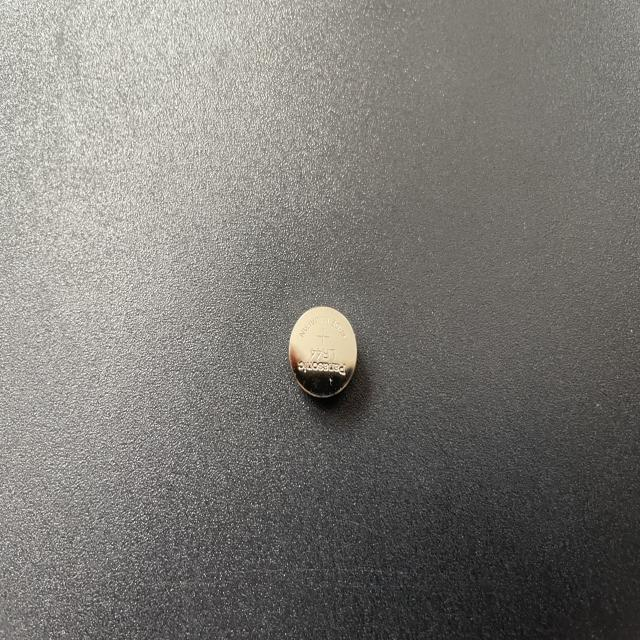COIN: (285, 307, 358, 399)
